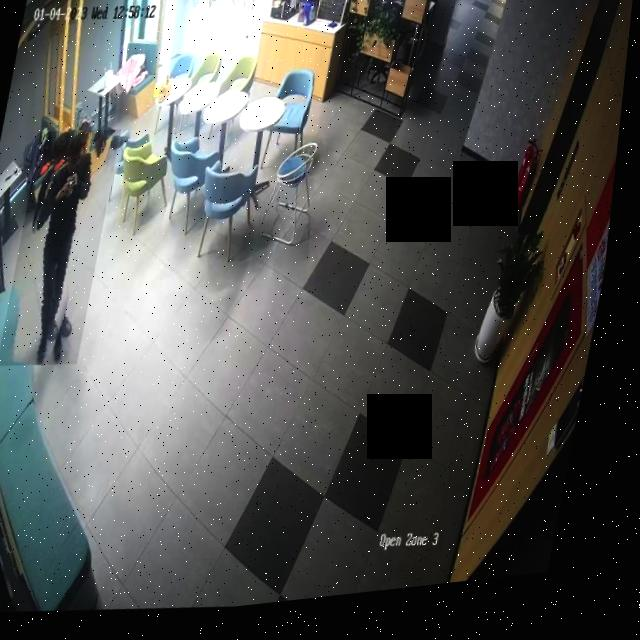person: (4, 126, 124, 373)
